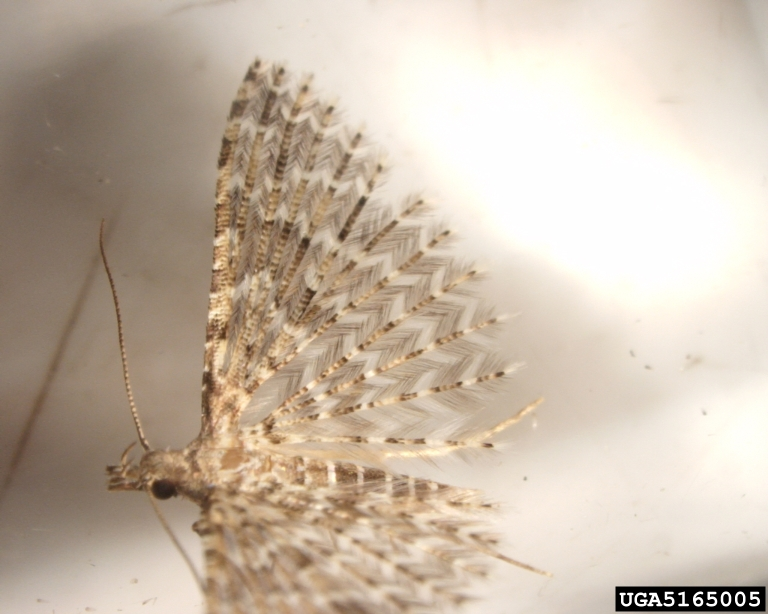Alucitidae: (87, 56, 550, 614)
moth: (85, 54, 548, 612)
